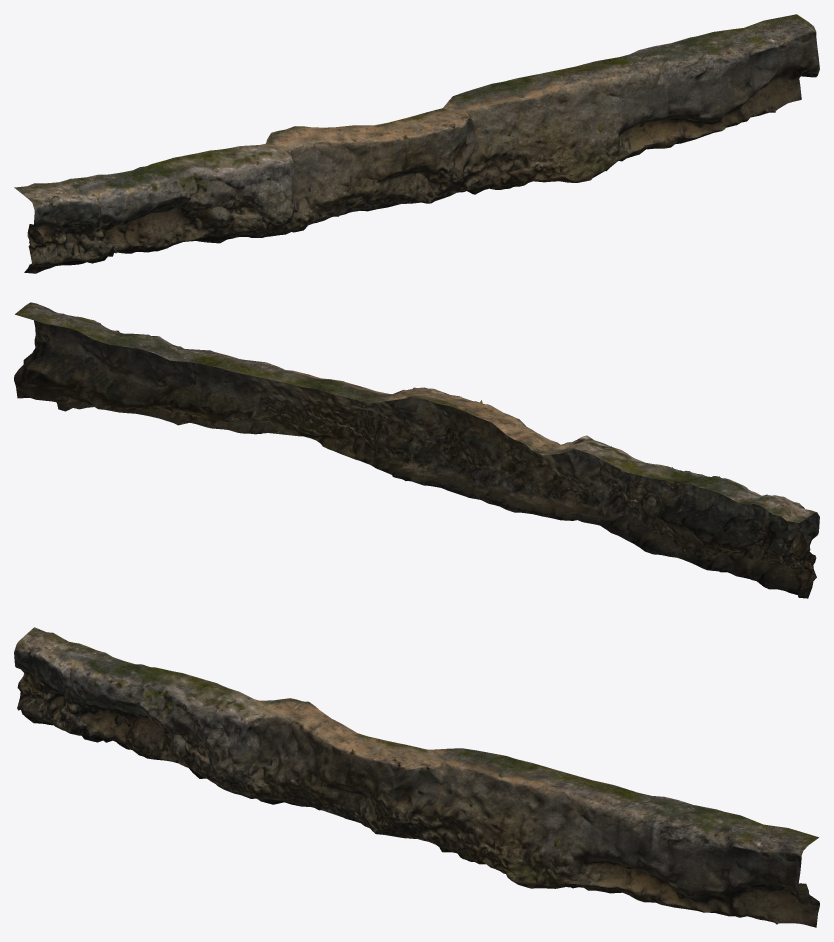
File: coastal_cliff_01.glb
3 views of the same model, one above another, from view 1: azimuth 30°, elevation 25°; view 2: azimuth 150°, elevation 25°; view 3: azimuth 330°, elevation 25° (orthographic). The views are drawn at different scales.
Parts seen in each view (by area): view 1: coastal_cliff_01; view 2: coastal_cliff_01; view 3: coastal_cliff_01.
Part boxes in pixels (bbox=[...]): coastal_cliff_01: bbox=[14, 14, 819, 273]; coastal_cliff_01: bbox=[14, 302, 819, 598]; coastal_cliff_01: bbox=[14, 627, 819, 927].
Size of the model in its own units: 91.94 by 10.21 by 10.93.
1 material, 1 textured.
